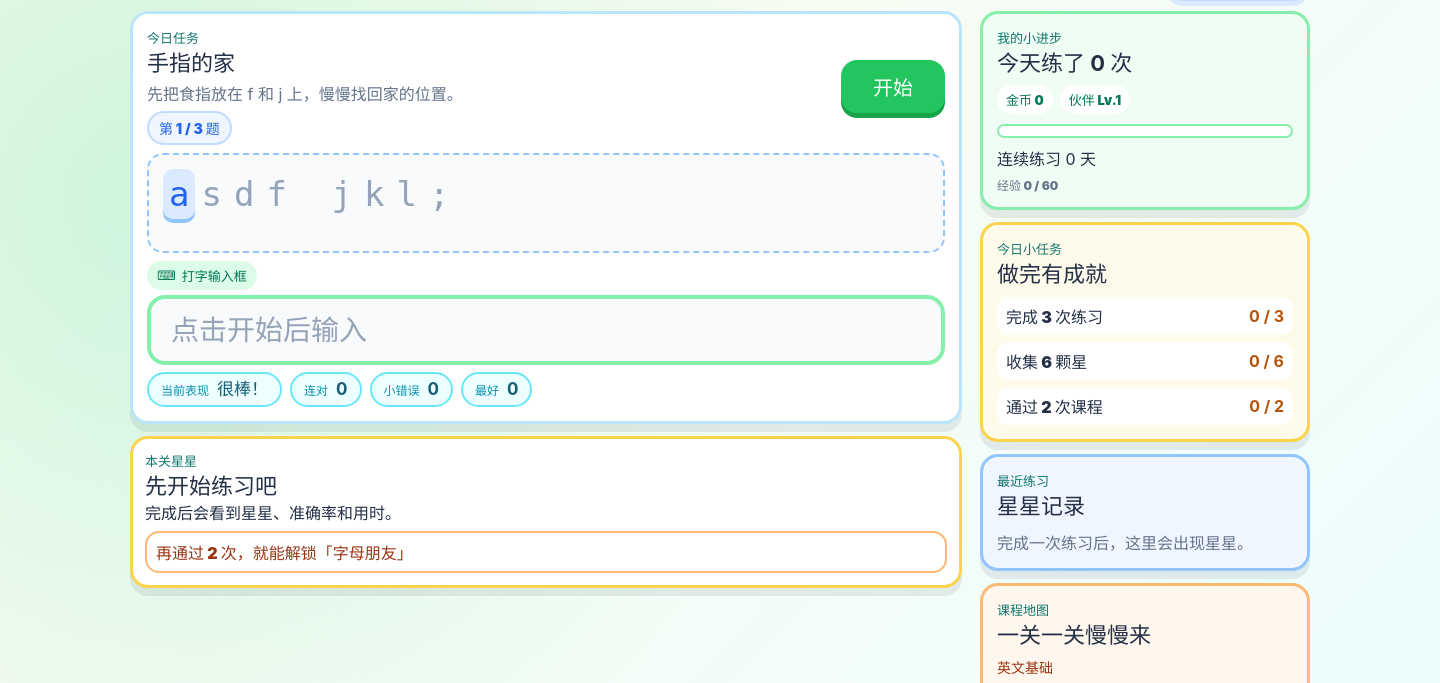
it: App › keeps mistakes after a child deletes and corrects the input
The image size is (1440, 683).
Click the button "开始": {"x": 893, "y": 86} [841,60,945,113]
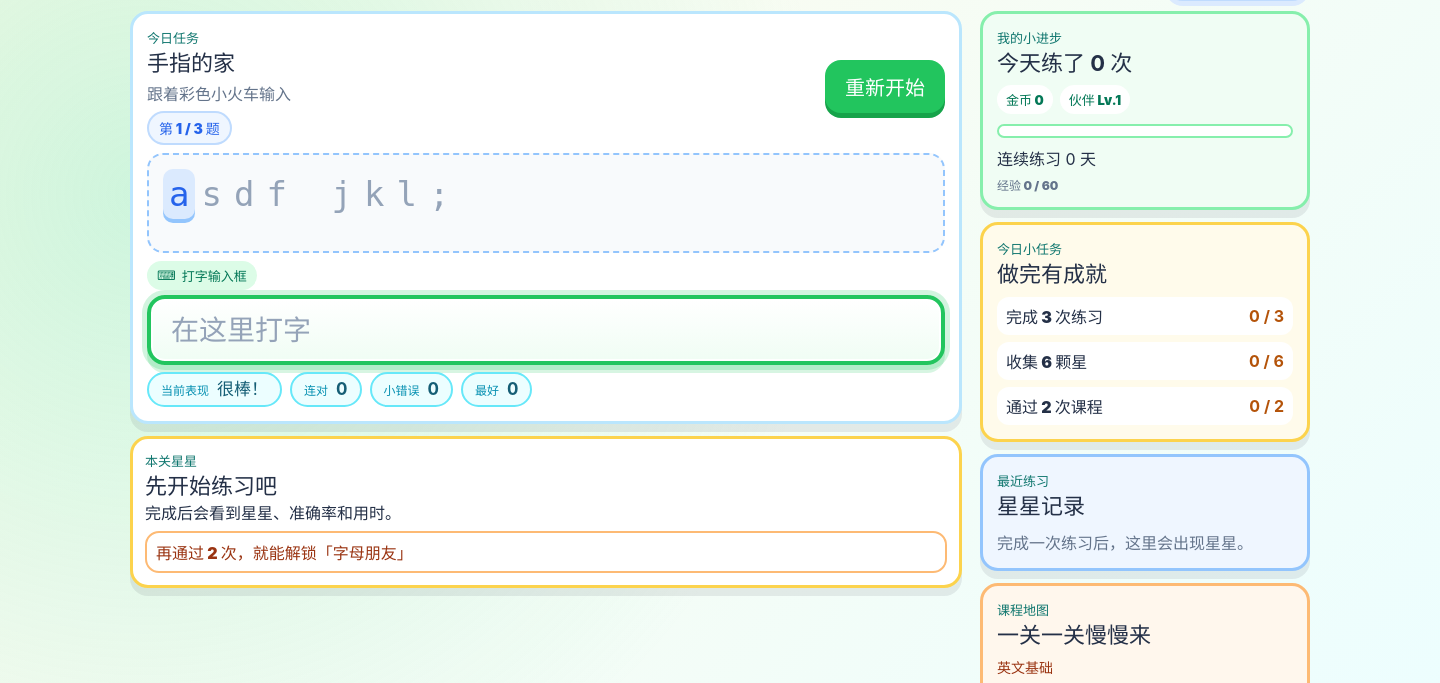
Expected: the text "小错误" is shown, [384,383,420,398]
In the field labelled "打字输入框": {"x": 546, "y": 330} [147,295,945,365], type "x"
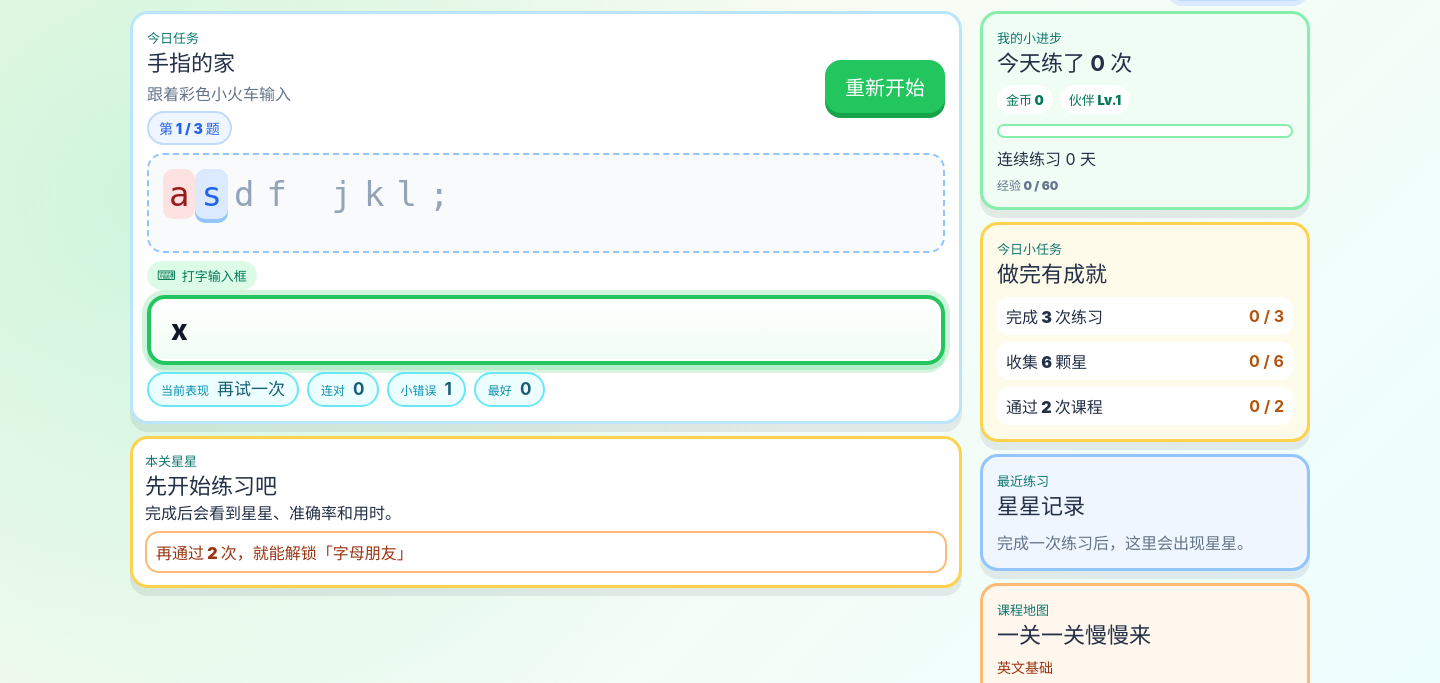
Result: the text "小错误" reads "小错误 1" at [386,372,466,407]
Press Backspace
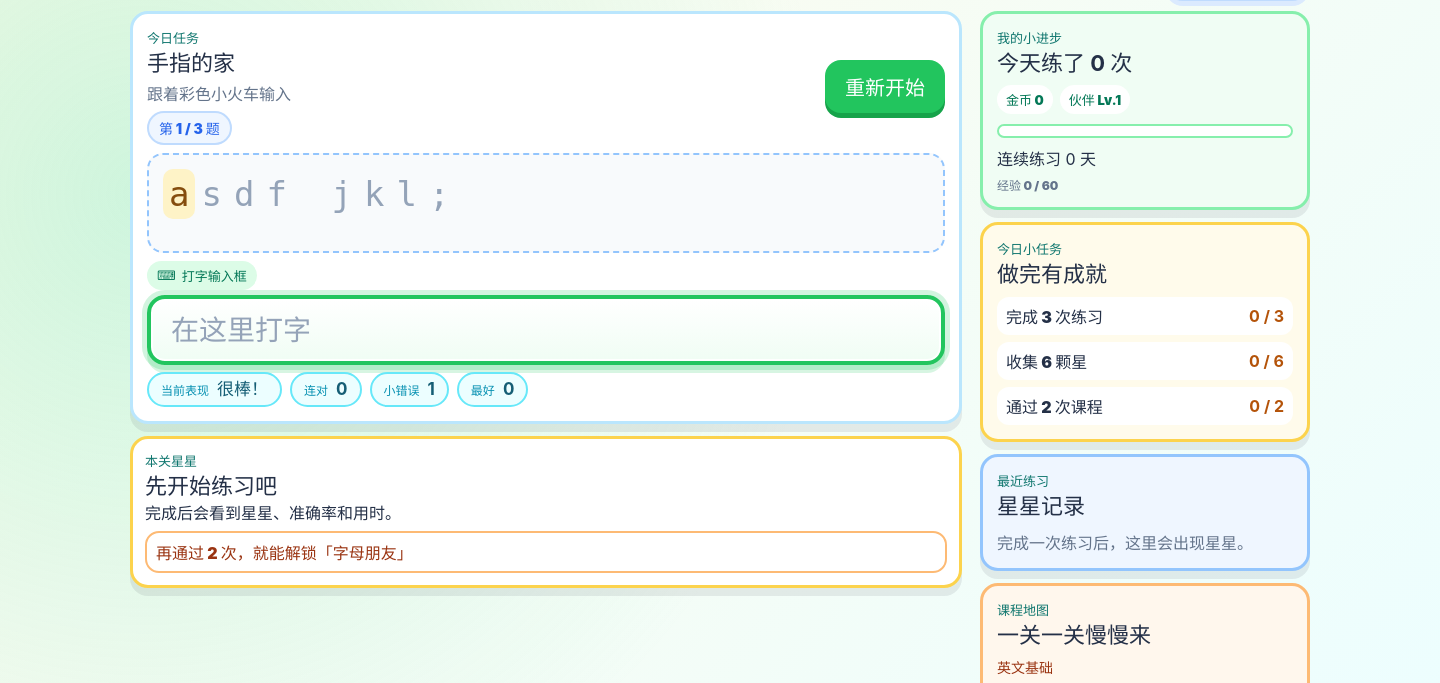
Result: the text "小错误" reads "小错误 1" at [370,372,449,407]
In the field labelled "打字输入框": {"x": 546, "y": 330} [147,295,945,365], type "asdf jkl;"
(page scrolled)
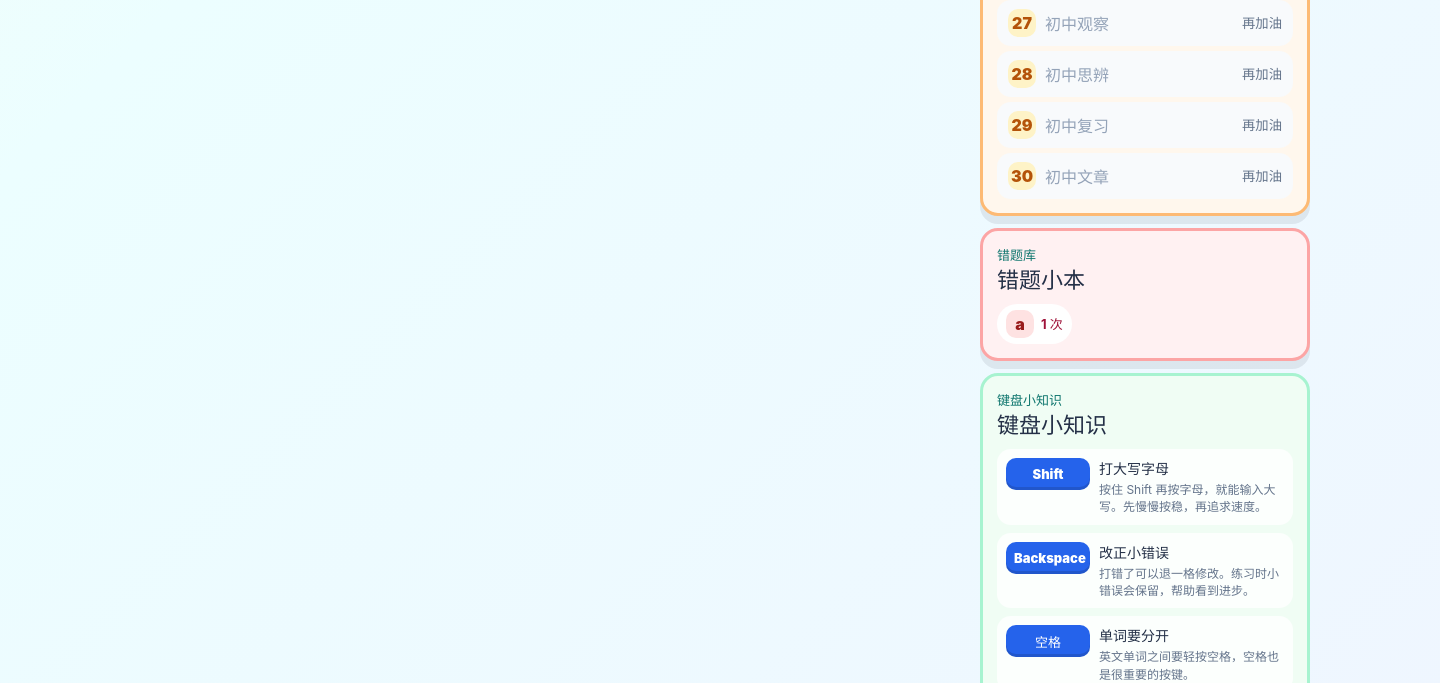
Result: the text "a" is shown at [1006,310,1034,338]
